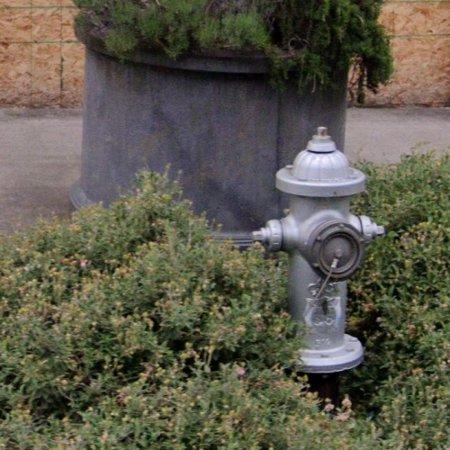a fire hydrant: (254, 127, 385, 374)
